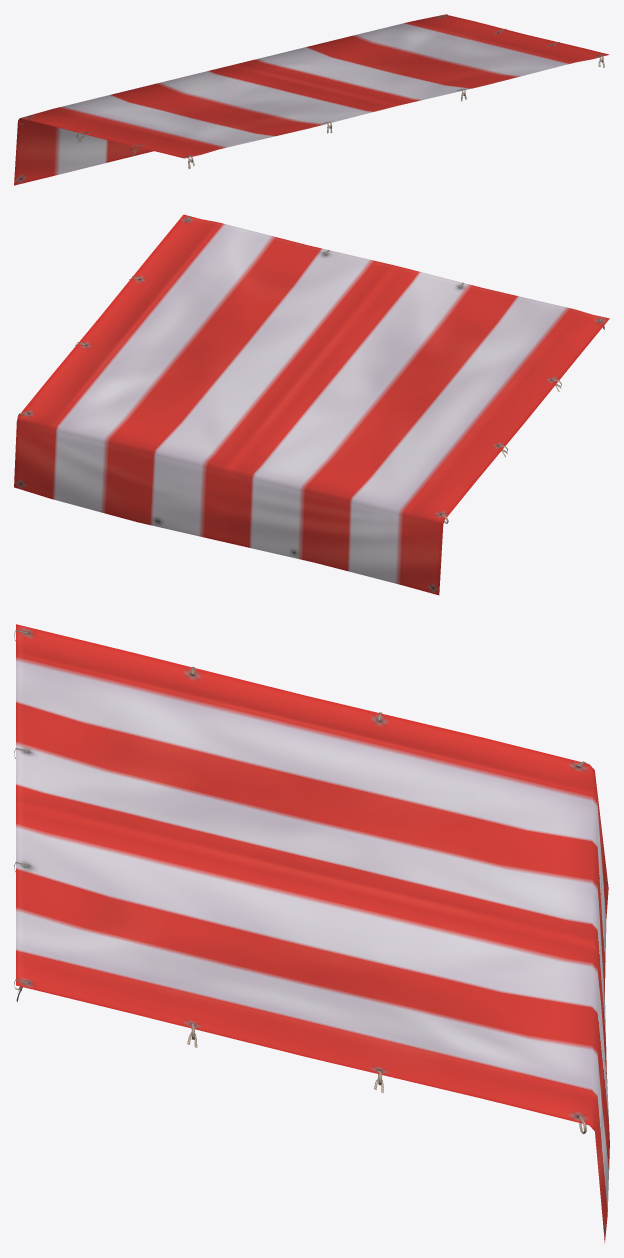
File: jsf_Ceiling_s03_c01_t01.fbx
3 views of the same model, one above another, from view 1: azimuth 30°, elevation 25°; view 2: azimuth 150°, elevation 25°; view 3: azimuth 270°, elevation 25° (orthographic). The views are drawn at different scales.
Visible parts, largest first — view 1: jsf_Ceiling_s03_c01_t01; view 2: jsf_Ceiling_s03_c01_t01; view 3: jsf_Ceiling_s03_c01_t01.
Boxes of the visible parts, <box> form: jsf_Ceiling_s03_c01_t01: <box>14,14,609,185</box>; jsf_Ceiling_s03_c01_t01: <box>14,214,609,595</box>; jsf_Ceiling_s03_c01_t01: <box>14,624,609,1243</box>.
Bounding box in the file's own units: 315 × 106 × 216.
